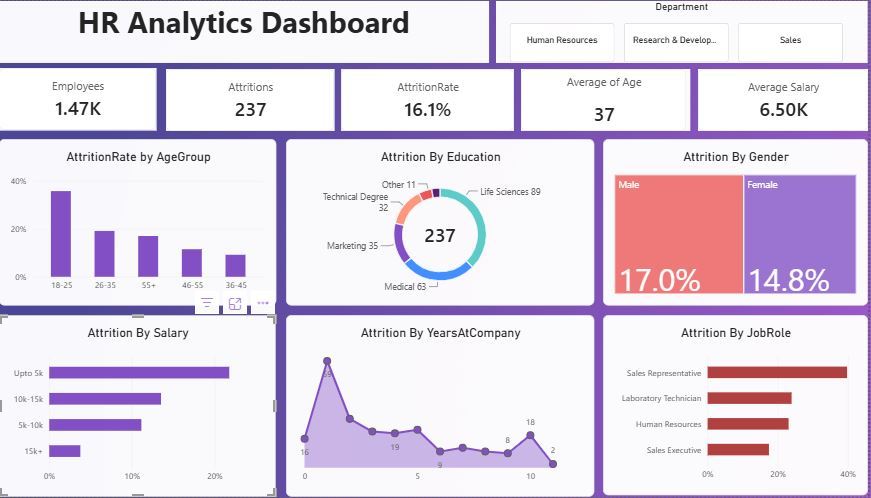

The dashboard page shown, as its layout file describes it:
{"tool":"powerbi","page":{"name":"Page 2","canvas":[1280,720],"ordinal":1},"visuals":[{"type":"cardVisual","title":"Employess","fields":{"Data":["CountNonNull(HR_Analytics.EmpID)"]},"box":[16.8,97.7,228.9,90.7],"z":0},{"type":"cardVisual","title":"Employess","fields":{"Data":["HR_Analytics.AttritionRate"]},"box":[514.5,98.2,251.3,90.3],"z":1000},{"type":"cardVisual","title":"Employess","fields":{"Data":["Sum(HR_Analytics.AttritionCount)"]},"box":[260.5,98.2,244.8,90.3],"z":2000},{"type":"cardVisual","title":"Employess","fields":{"Data":["Avg(HR_Analytics.Age)"]},"box":[776.3,98.2,246.1,90.3],"z":3000},{"type":"cardVisual","title":"Employess","fields":{"Data":["Avg(HR_Analytics.MonthlyIncome)"]},"box":[1032.9,98.2,247.4,90.3],"z":4000},{"type":"advancedSlicerVisual","fields":{"Values":["HR_Analytics.Department"]},"box":[740.2,0,539.8,89.5],"z":5000},{"type":"textbox","box":[17,0,711.7,89.5],"z":6000},{"type":"clusteredColumnChart","fields":{"Category":["HR_Analytics.AgeGroup"],"Y":["HR_Analytics.AttritionRate"]},"box":[17,200.3,403.2,242.2],"z":7000},{"type":"areaChart","title":"Attrition By YearsAtCompany","fields":{"Category":["HR_Analytics.YearsAtCompany"],"Y":["Sum(HR_Analytics.AttritionCount)"]},"box":[434.6,455.6,447.7,264.4],"z":8000},{"type":"barChart","title":"Attrition By Salary","fields":{"Category":["HR_Analytics.SalarySlab"],"Y":["HR_Analytics.AttritionRate"]},"box":[17.4,456.2,402.5,264.4],"z":9000},{"type":"donutChart","title":"Attrition By Education","fields":{"Category":["HR_Analytics.EducationField","HR_Analytics.YearsAtCompany"],"Y":["Sum(HR_Analytics.AttritionCount)"]},"box":[434.6,200.3,447.7,242.2],"z":10000},{"type":"barChart","title":"Attrition By JobRole","fields":{"Category":["HR_Analytics.JobRole"],"Y":["HR_Analytics.AttritionRate"]},"box":[895.4,455.6,384.9,261.8],"z":11000},{"type":"treemap","title":"Attrition By Gender","fields":{"Group":["HR_Analytics.Gender"],"Values":["HR_Analytics.AttritionRate"]},"box":[895.4,200.3,384.9,242.2],"z":12000}]}

Visuals, with their boxes in screenshot pixels (x1, y1, x2, y2), scaled from the page's 1280x720 canvas onto the 871x498 screenshot:
"Employess" cardVisual: box=[11, 68, 167, 130]
"Employess" cardVisual: box=[350, 68, 521, 130]
"Employess" cardVisual: box=[177, 68, 344, 130]
"Employess" cardVisual: box=[528, 68, 696, 130]
"Employess" cardVisual: box=[703, 68, 870, 130]
advancedSlicerVisual - HR_Analytics.Department: box=[504, 0, 870, 62]
textbox: box=[12, 0, 496, 62]
clusteredColumnChart - HR_Analytics.AgeGroup x HR_Analytics.AttritionRate: box=[12, 139, 286, 306]
"Attrition By YearsAtCompany" areaChart: box=[296, 315, 600, 497]
"Attrition By Salary" barChart: box=[12, 316, 286, 497]
"Attrition By Education" donutChart: box=[296, 139, 600, 306]
"Attrition By JobRole" barChart: box=[609, 315, 870, 496]
"Attrition By Gender" treemap: box=[609, 139, 870, 306]
